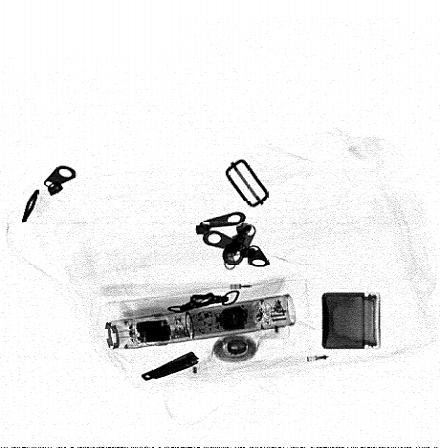Baton: (104, 293, 297, 350)
